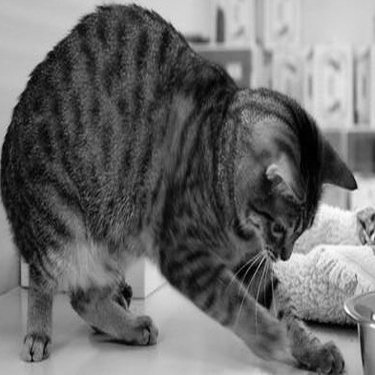cat: (1, 2, 353, 368)
